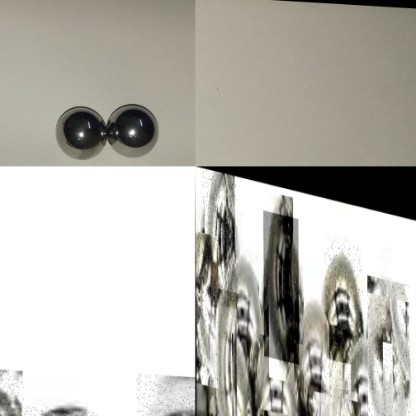ironball: (366, 264, 409, 415), (323, 230, 362, 385), (262, 206, 298, 359), (202, 167, 236, 307), (52, 102, 107, 168), (195, 231, 218, 387), (209, 305, 241, 415), (104, 100, 159, 162), (133, 374, 200, 416), (320, 350, 350, 415), (373, 369, 402, 415), (0, 368, 22, 415), (221, 371, 243, 415), (36, 398, 88, 414), (257, 404, 313, 415)
